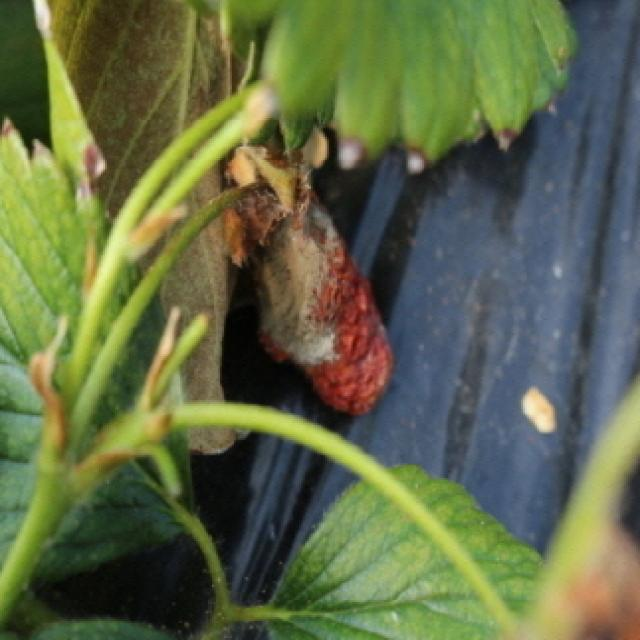Gray Mold: (222, 127, 397, 416)
